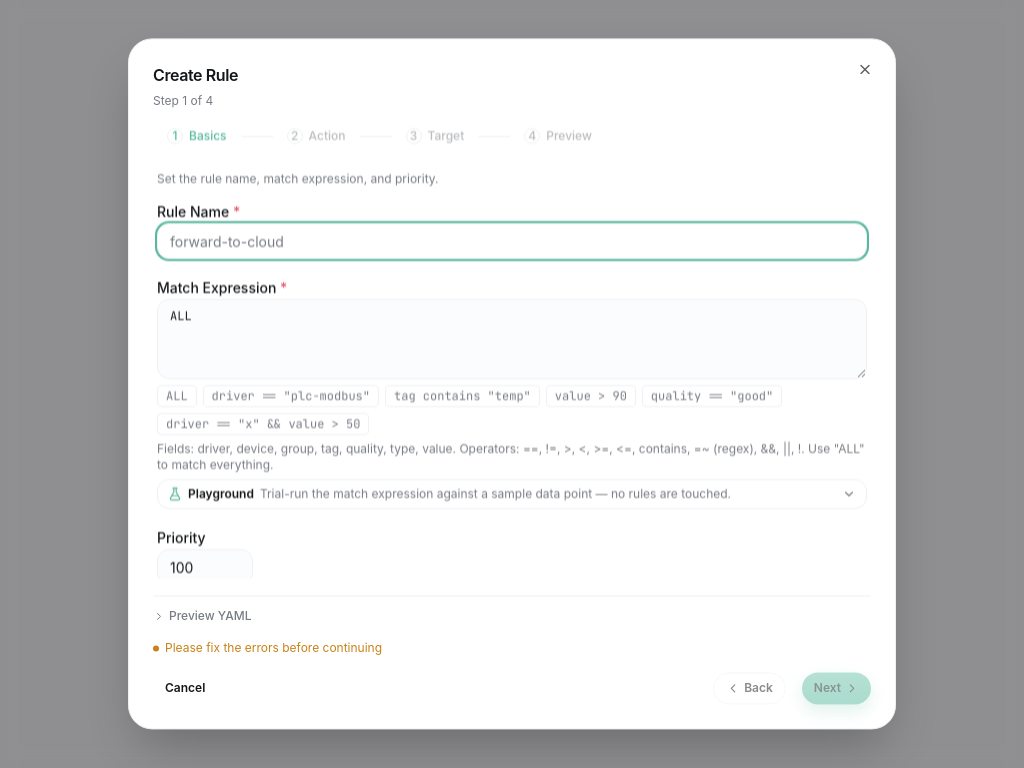
Test case: wizard cancel guard › RuleWizard create: Esc on a dirty draft opens the discard confirmation
This screenshot has width=1024, height=768.
Check: the heading "Create Rule" is shown, box [153,65,238,85]
Type "my-rule" into the field with placeholder "forward-to-cloud" at coordinates (512, 241), box [157,223,867,259]
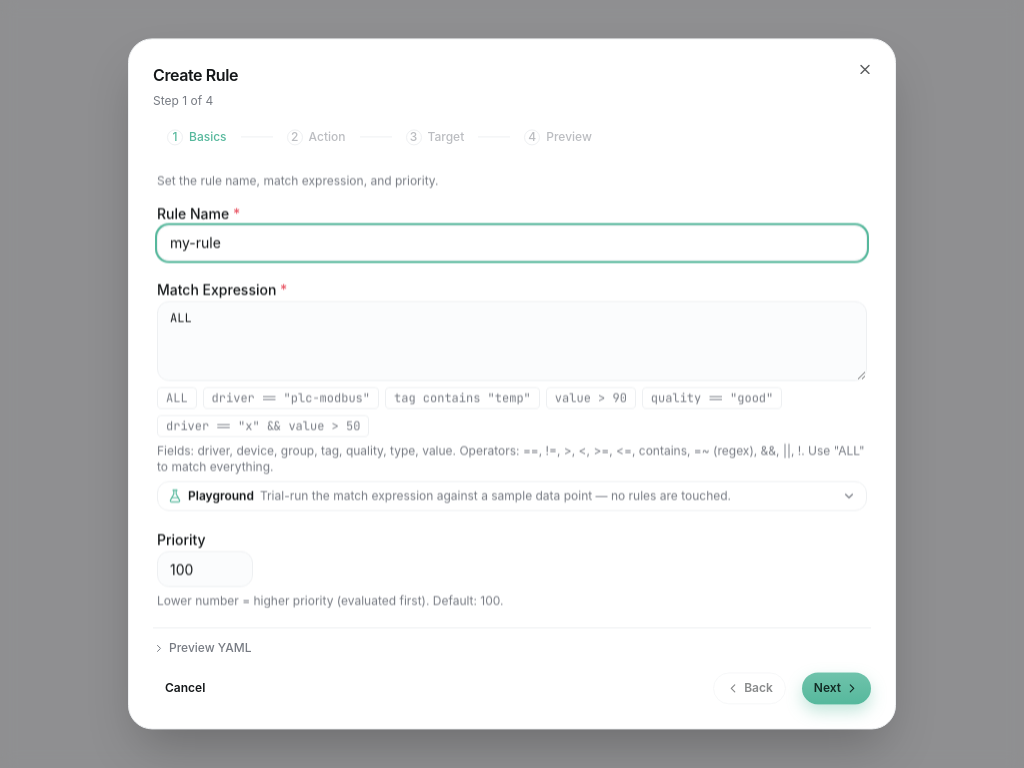
Press Escape
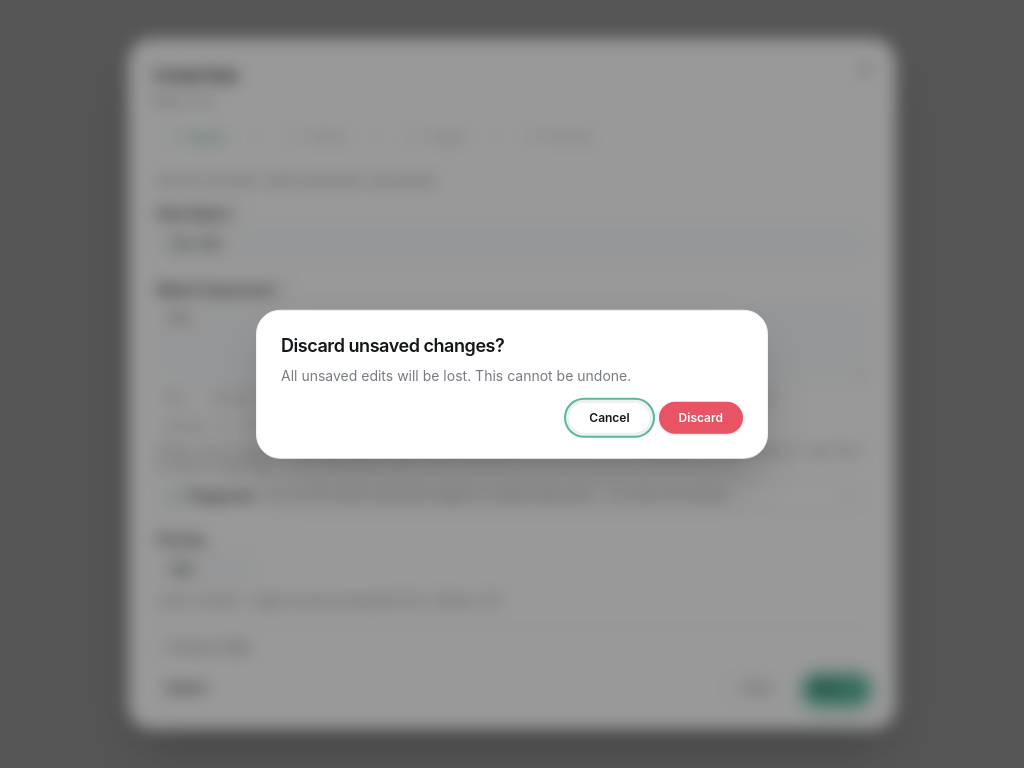
Check: the heading "Create Rule" is shown, box [153,65,238,85]
Check: the heading "Discard unsaved changes?" is shown, box [281,335,504,356]
